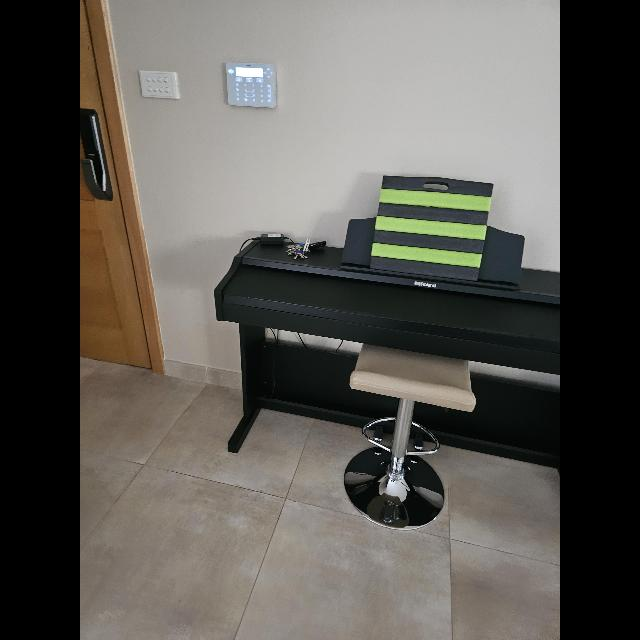Keys: (286, 238, 326, 260)
